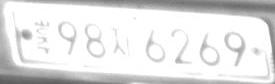2: (170, 27, 192, 65)
6: (144, 27, 166, 63), (198, 30, 220, 66)
8: (83, 22, 106, 58)
9: (223, 31, 246, 66), (57, 20, 78, 55)
광주_V: (34, 16, 56, 55)
자: (111, 26, 132, 56)
